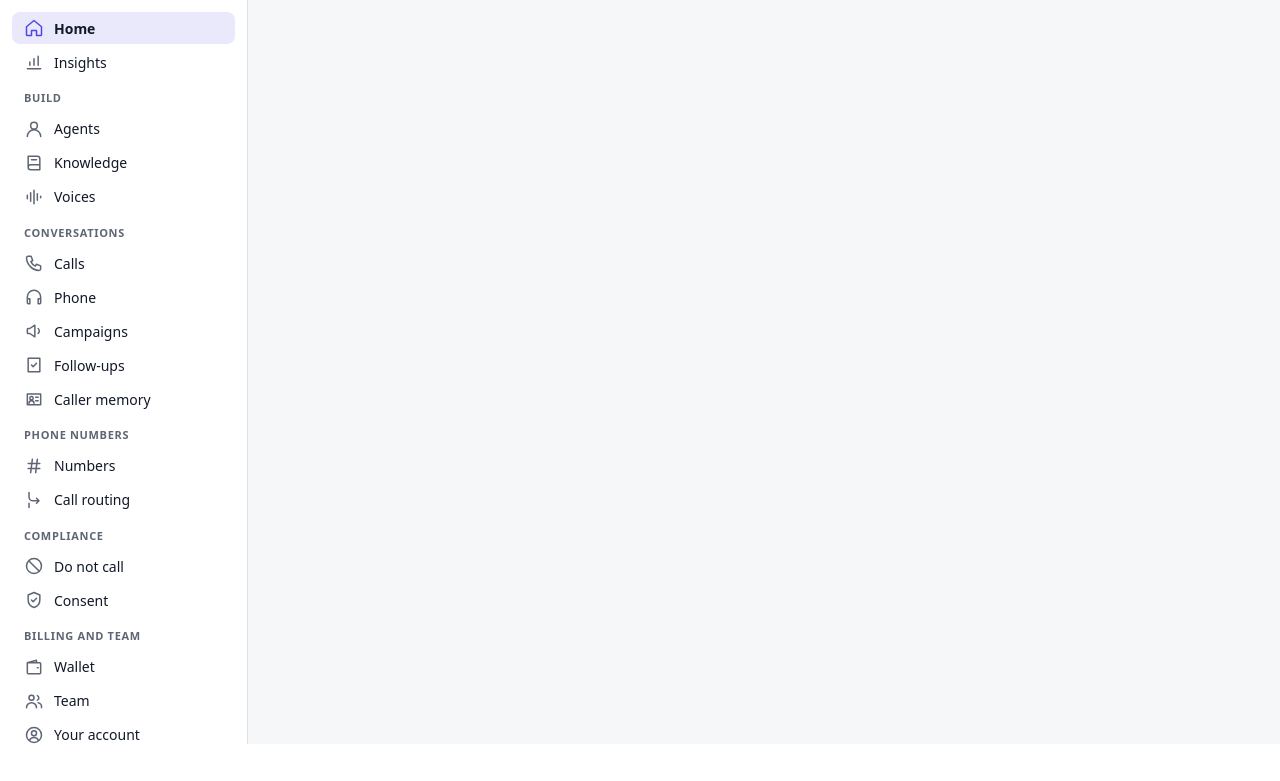
Test: caller memory › is reached from the console's nav
Click the link "Caller memory" at (87, 399), box [24,389,151,409]
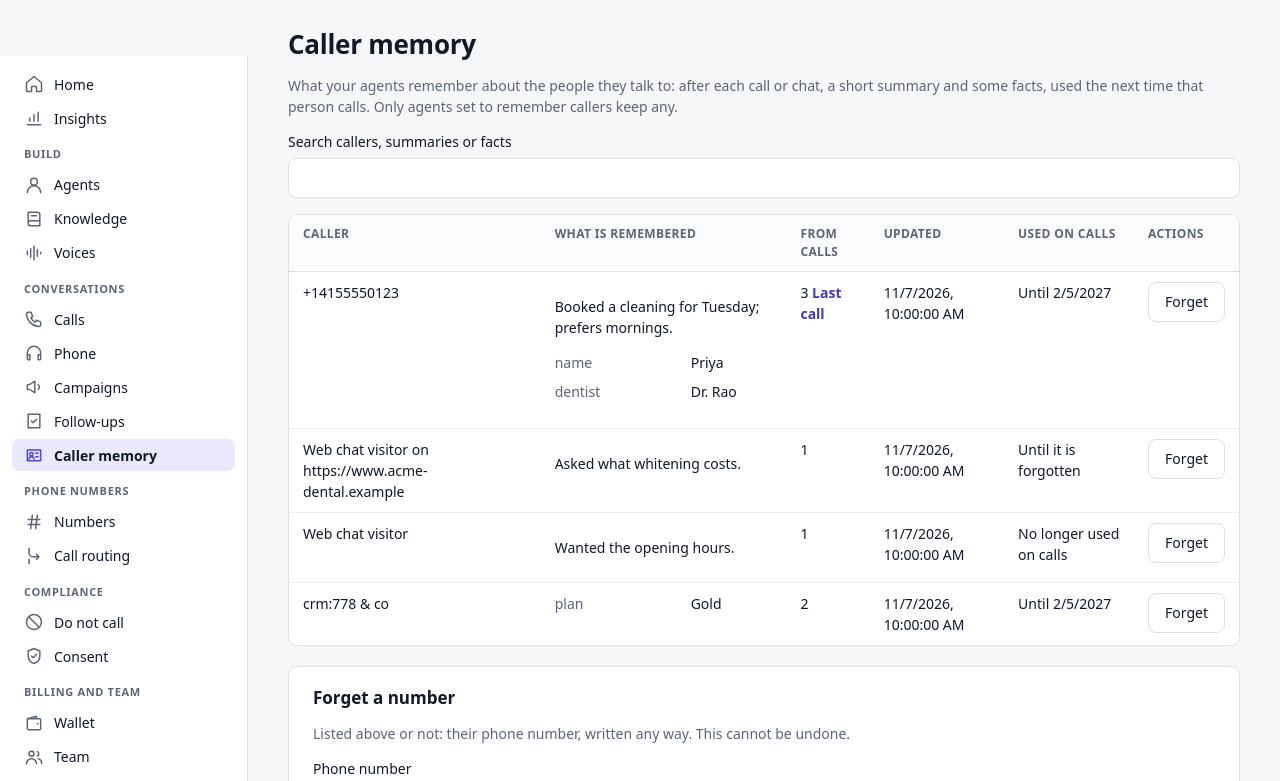
Check: the heading "Caller memory" is shown, box [288,26,476,62]
